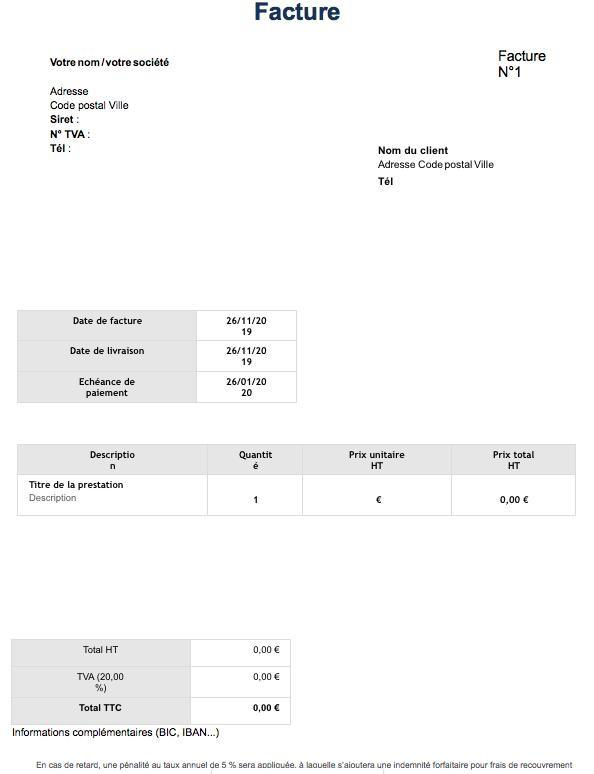ROI: (19, 448, 577, 517), (18, 309, 299, 406), (11, 640, 288, 723), (44, 51, 181, 166), (367, 132, 509, 200), (9, 727, 229, 748)
